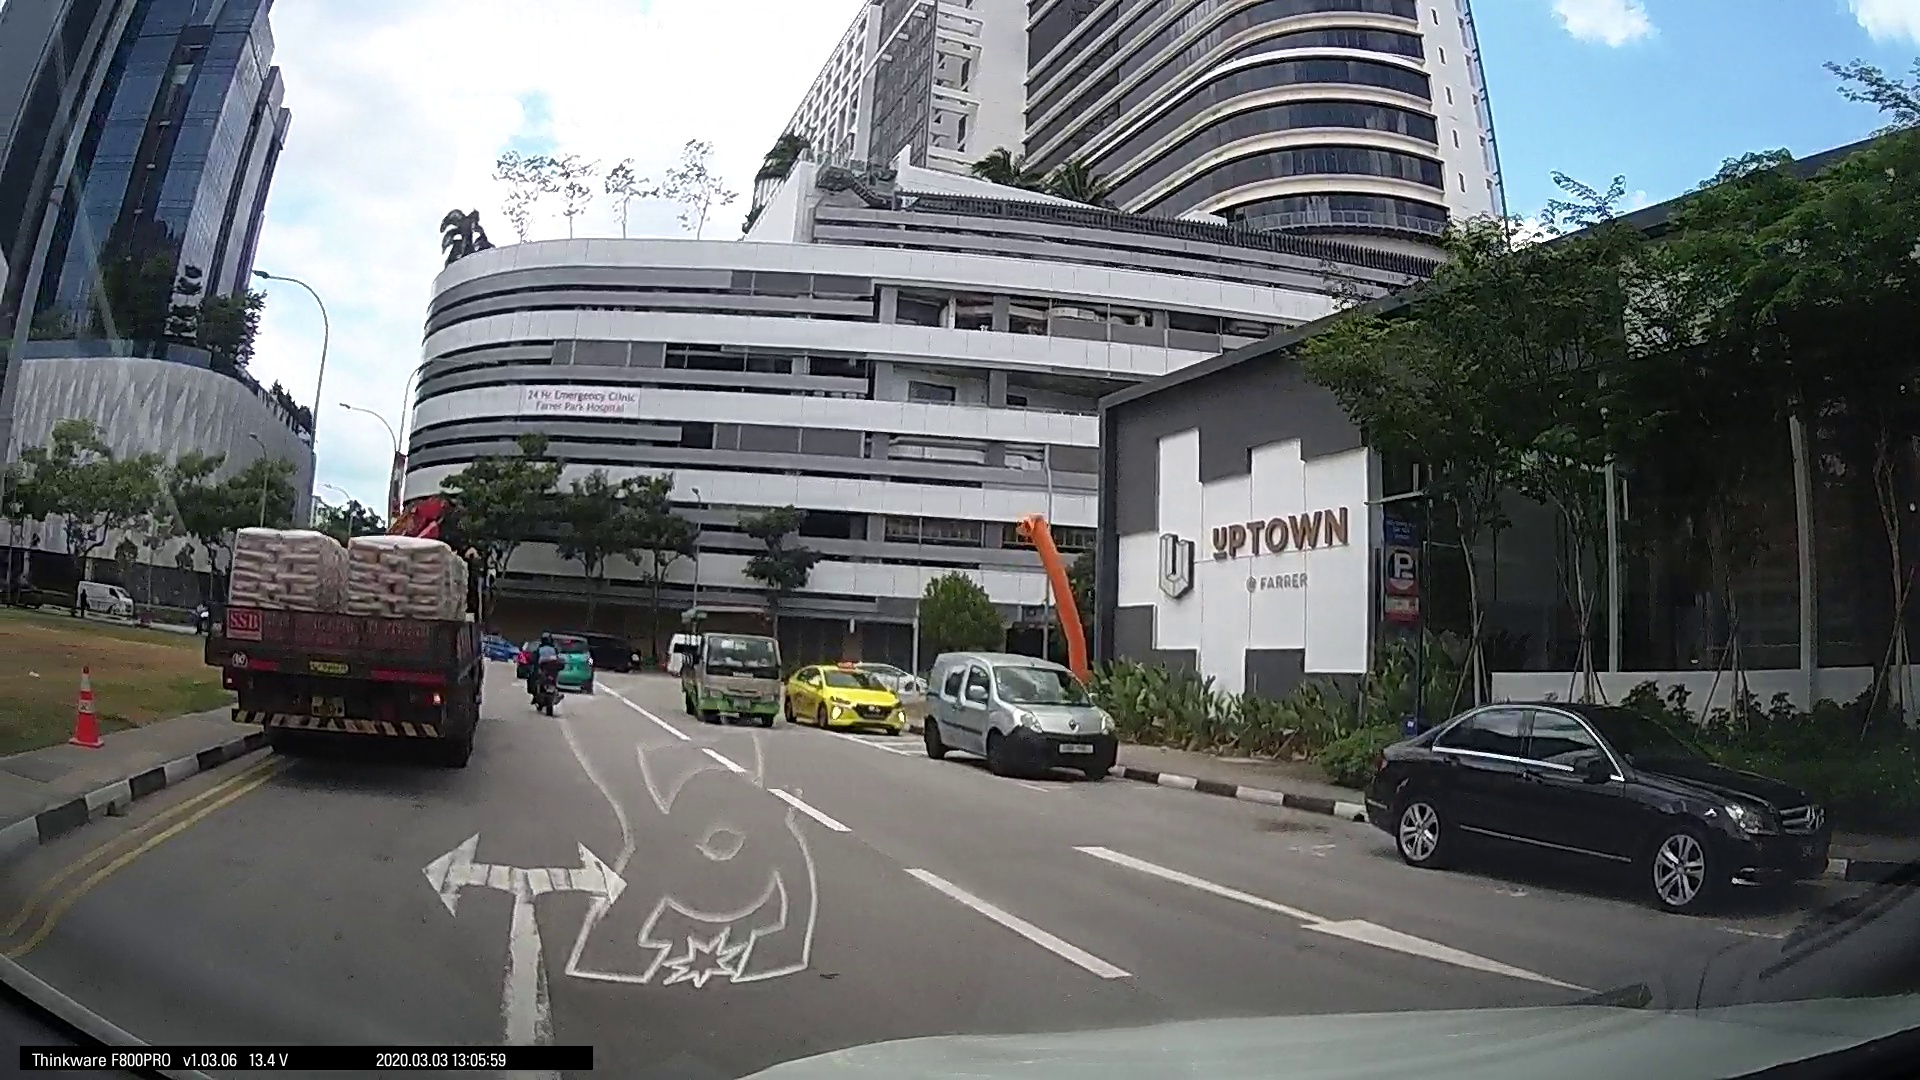Heavy Vehicle: (80, 243, 728, 906), (847, 567, 982, 717), (1249, 617, 1353, 717)
Light Vehicle: (1636, 671, 1880, 823), (735, 636, 878, 769), (1023, 626, 1064, 675), (1121, 636, 1164, 676)
